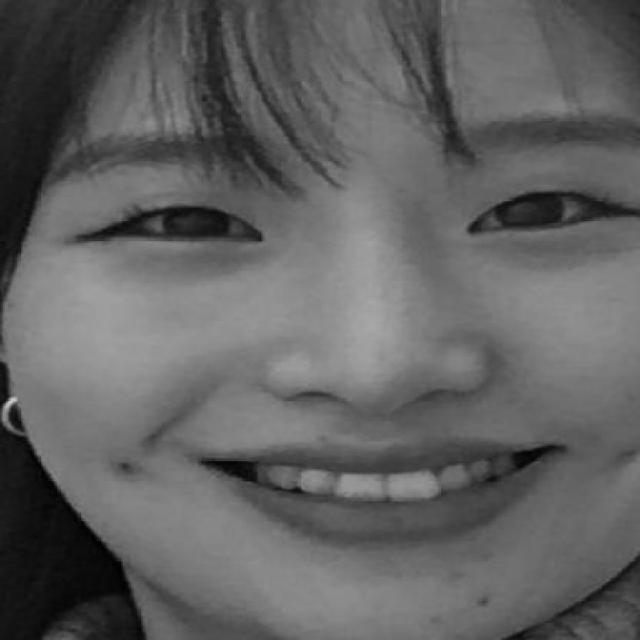happy: (60, 97, 640, 565)
